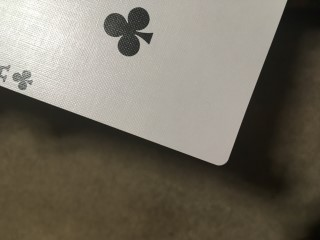AceOfClubs: (1, 1, 288, 166)
